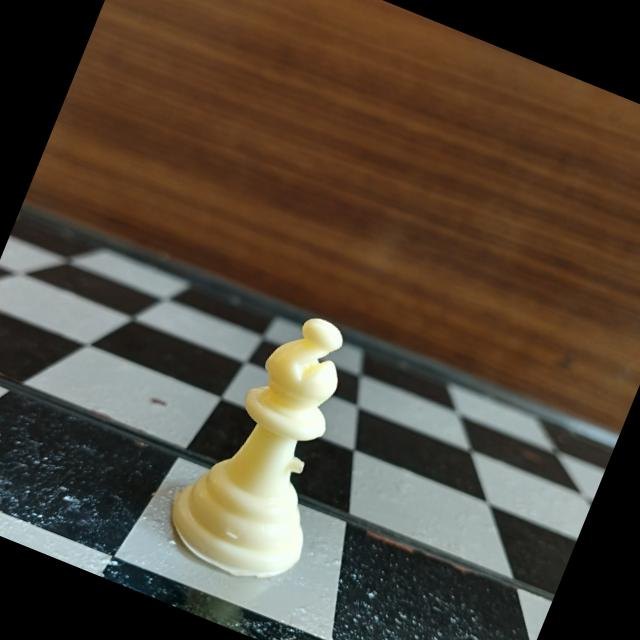White Bishop: (146, 280, 392, 606)
